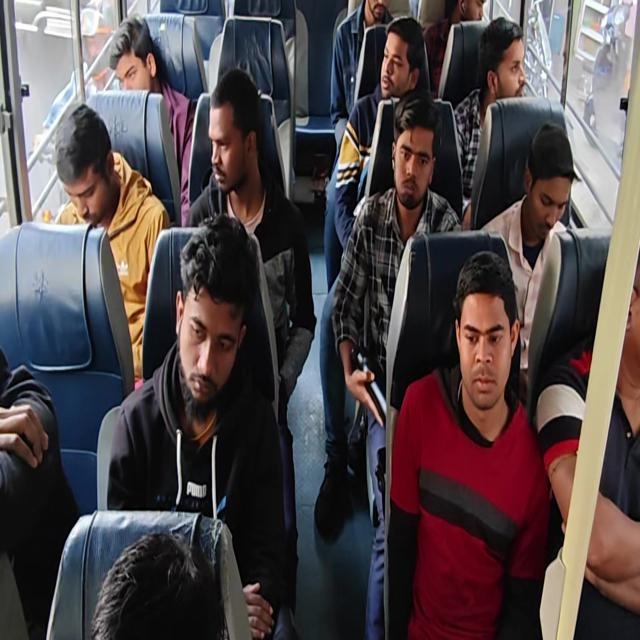person: (173, 213, 253, 416), (85, 531, 228, 640), (449, 245, 534, 416), (198, 66, 268, 193), (56, 92, 119, 222), (525, 113, 581, 245), (390, 95, 446, 223), (474, 18, 530, 122), (608, 228, 640, 396), (379, 16, 429, 116), (102, 12, 158, 87), (337, 0, 406, 59), (449, 0, 502, 70)
